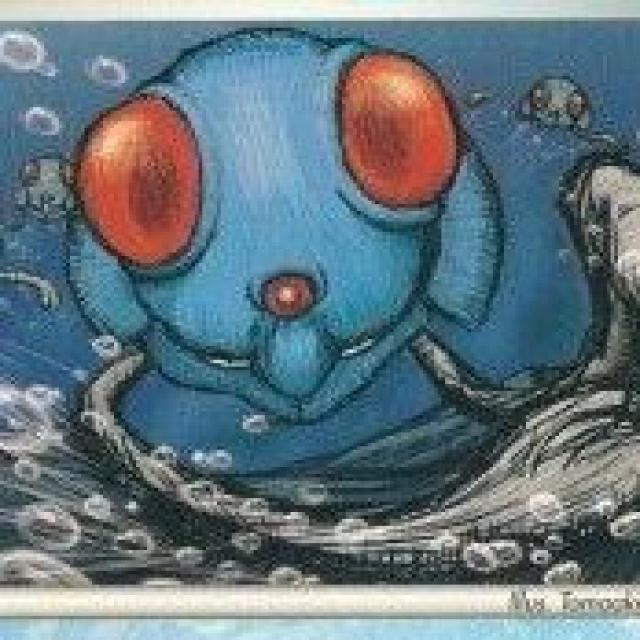Tentacool: (67, 31, 508, 443)
